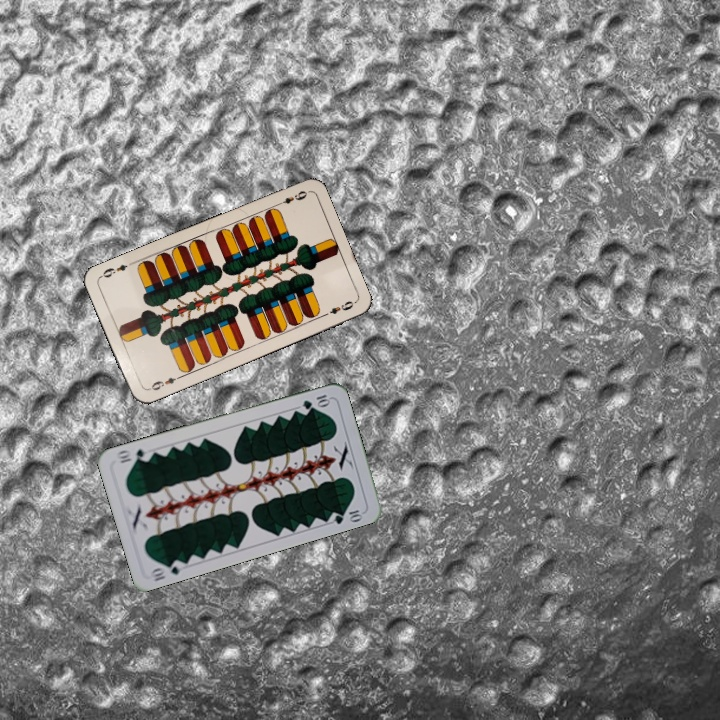E9: (271, 187, 310, 209), (144, 372, 183, 393)
G10: (146, 556, 187, 584), (298, 390, 333, 412)
